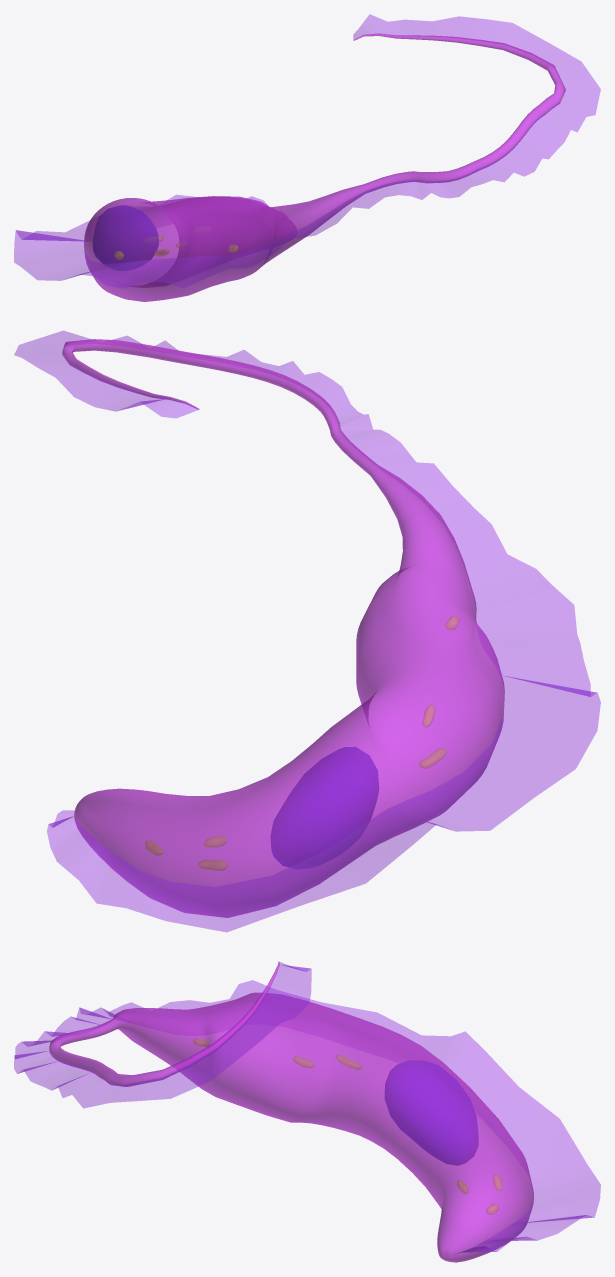
File: trapanazome.glb
3 renders of one model, top to bottom at view 1: azimuth 30°, elevation 25°; view 2: azimuth 150°, elevation 25°; view 3: azimuth 270°, elevation 25°, orthographic. The views are drawn at different scales.
Visible parts, largest first — view 1: trapanazomeBody, trapanazomeFin, nucleous; view 2: trapanazomeBody, trapanazomeFin, nucleous, mitocondria; view 3: trapanazomeBody, trapanazomeFin, nucleous, mitocondria.
Boxes of the visible parts, x1=… form: trapanazomeBody: x1=84, y1=33, x2=565, y2=301; trapanazomeFin: x1=14, y1=14, x2=600, y2=288; nucleous: x1=93, y1=205, x2=158, y2=270; trapanazomeBody: x1=62, y1=339, x2=504, y2=917; trapanazomeFin: x1=14, y1=330, x2=600, y2=932; nucleous: x1=270, y1=747, x2=378, y2=868; mitocondria: x1=145, y1=616, x2=459, y2=870; trapanazomeBody: x1=49, y1=961, x2=533, y2=1262; trapanazomeFin: x1=14, y1=962, x2=600, y2=1253; nucleous: x1=385, y1=1060, x2=478, y2=1165; mitocondria: x1=193, y1=1038, x2=501, y2=1214.
Bounding box in the file's own units: 10.49 × 6.09 × 9.66.
